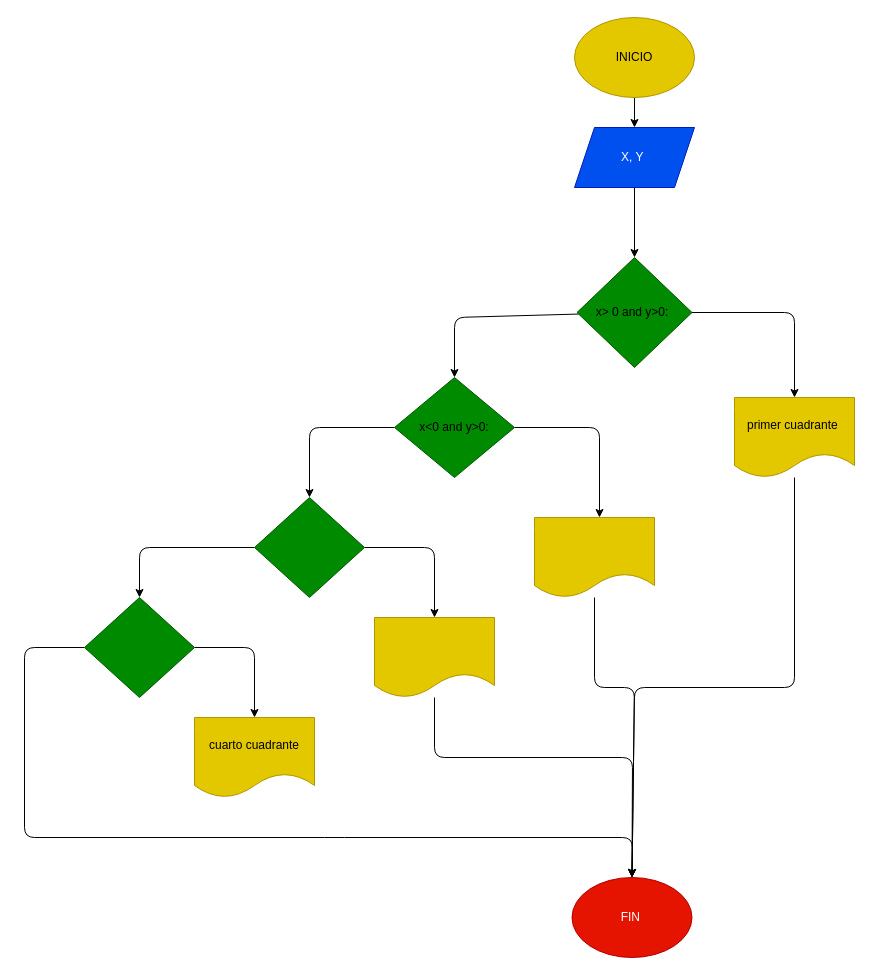
The diagram is 872 pixels wide and 975 high, and some of its shapes have lost their labels. Here are the shapes that lost their labels. From the top down, the centre of each, then its label:
At pixel 309 547: "x<0 and y<0:".
At pixel 594 557: "segundo cuadrante".
At pixel 139 647: "x>o and y<0:".
At pixel 434 657: "tercer cuadrante".
